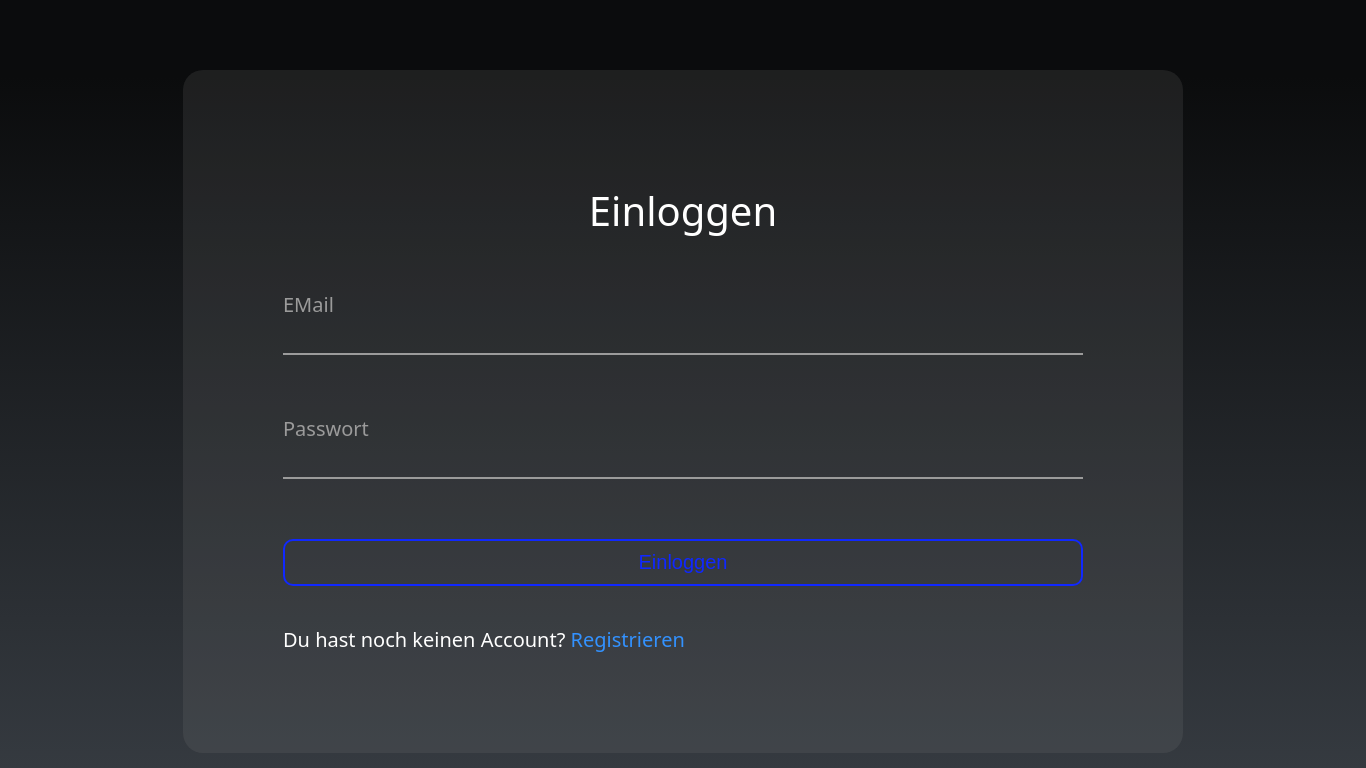
Scenario: Login Component › Fehlermeldung anzeigen, wenn das Passwort zu kurz ist
Type "user@example.com" into the field labelled "EMail" at (683, 337), box 283,318 -> 1083,355
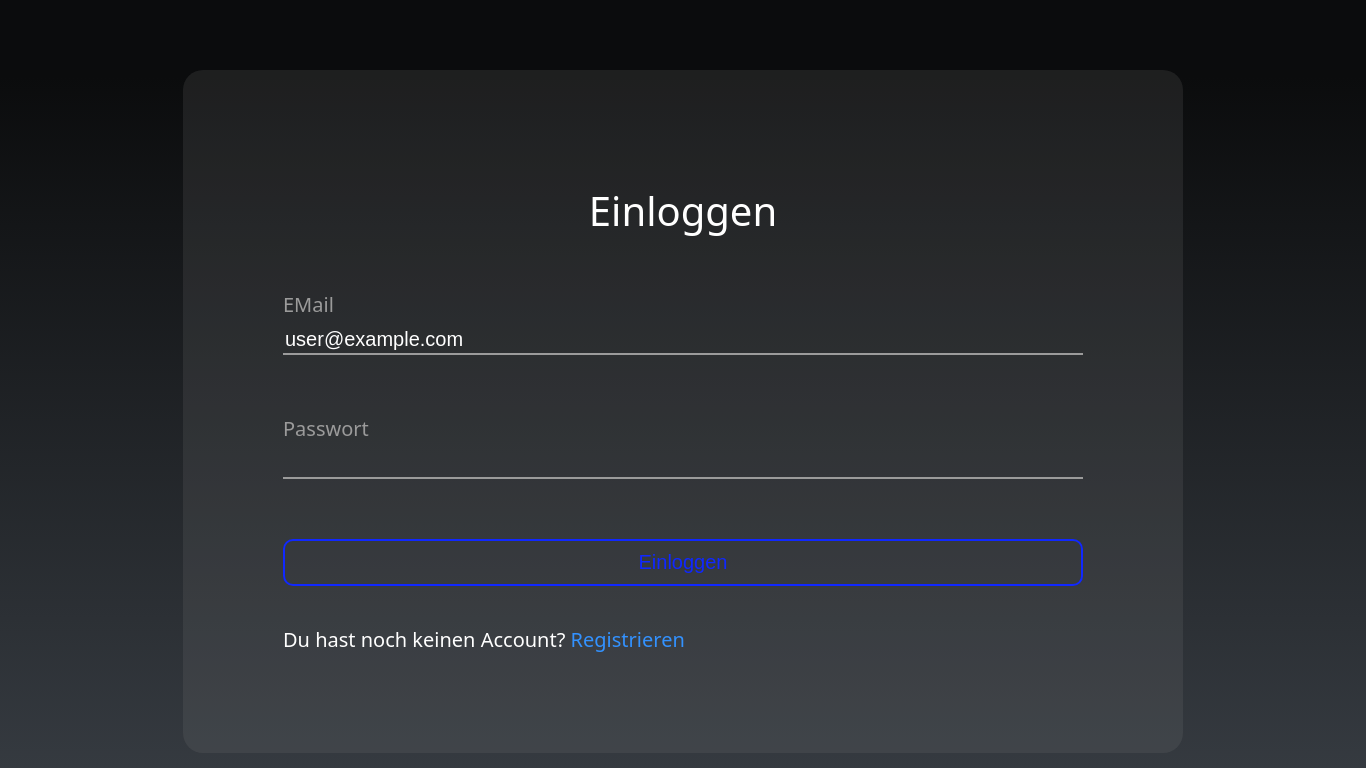
Type "short" into the password field labelled "Passwort" at (683, 461), box 283,442 -> 1083,479
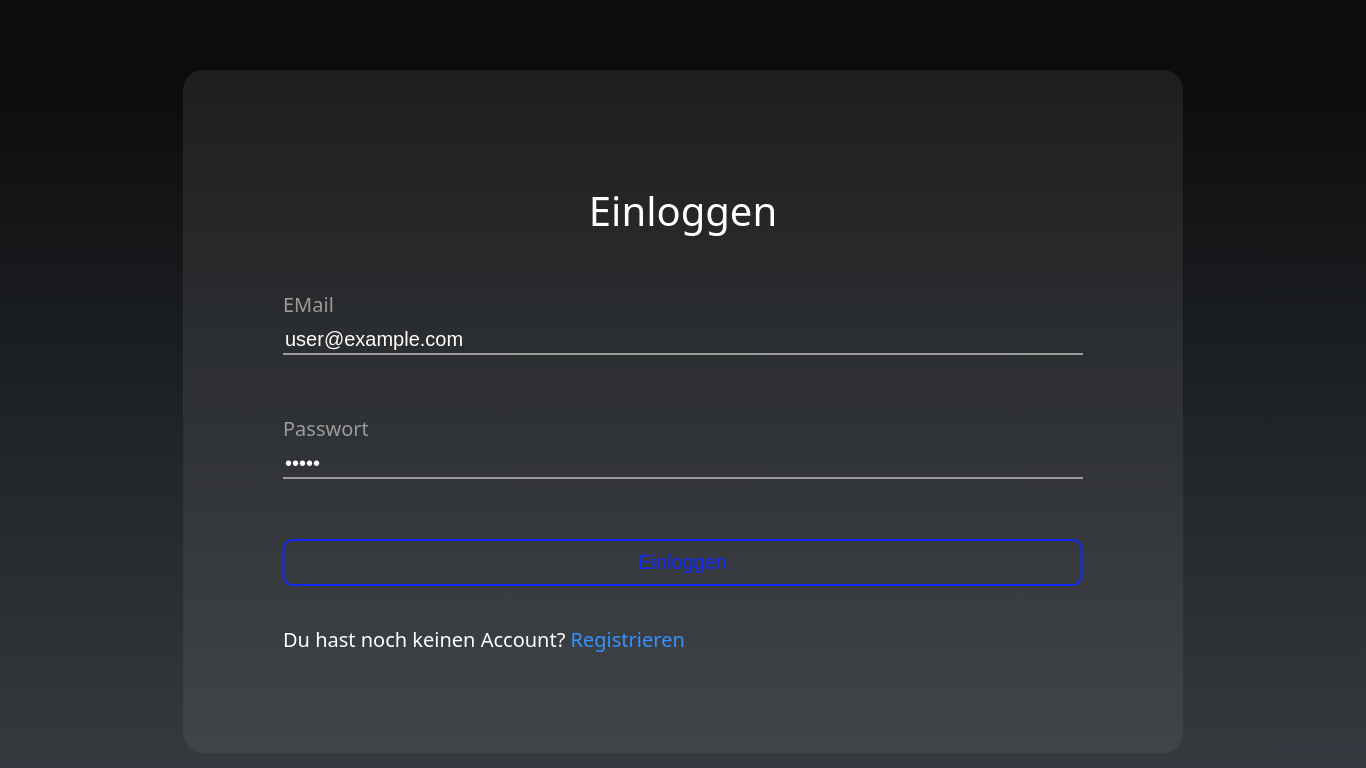
Click the button "Einloggen" at (683, 563), box 283,539 -> 1083,586
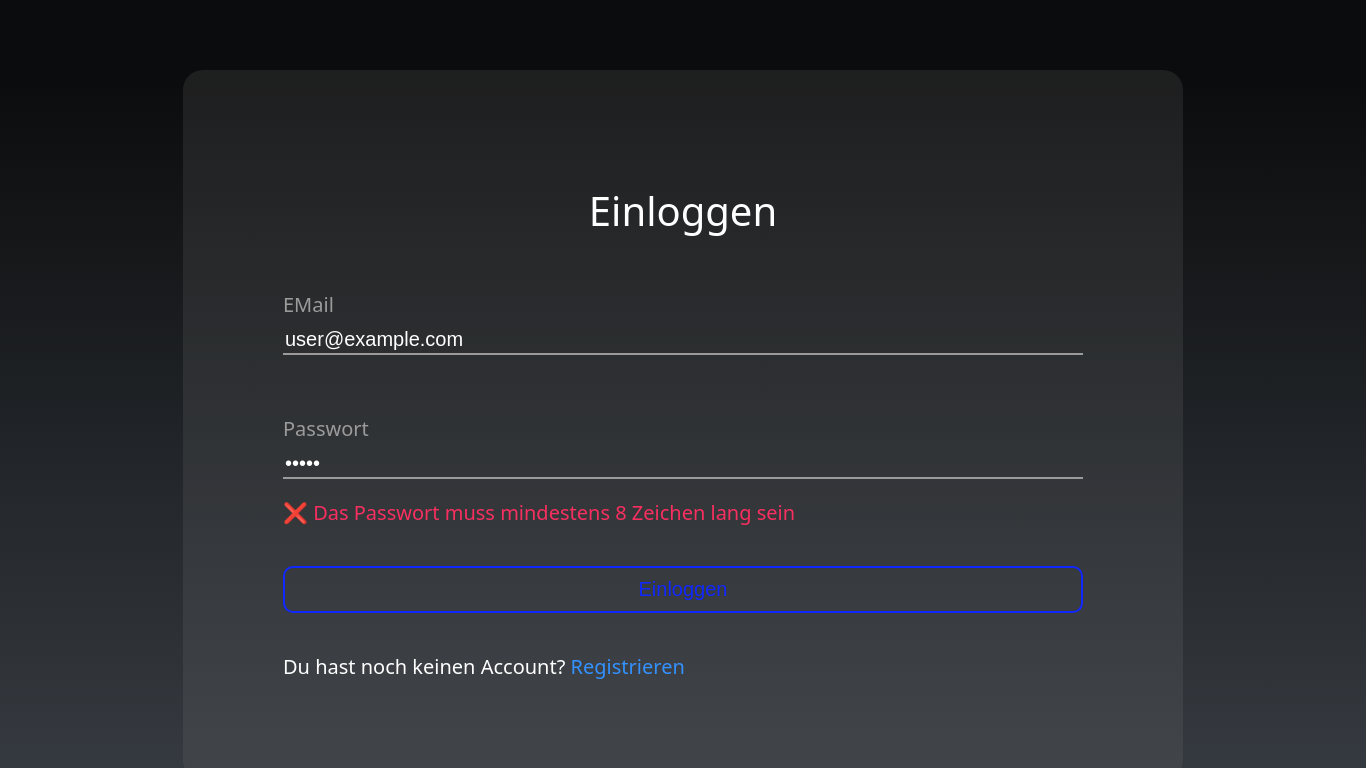
expect the text "❌ Das Passwort muss mindestens 8 Zeichen lang sein" is shown: met, box 283,499 -> 795,526
